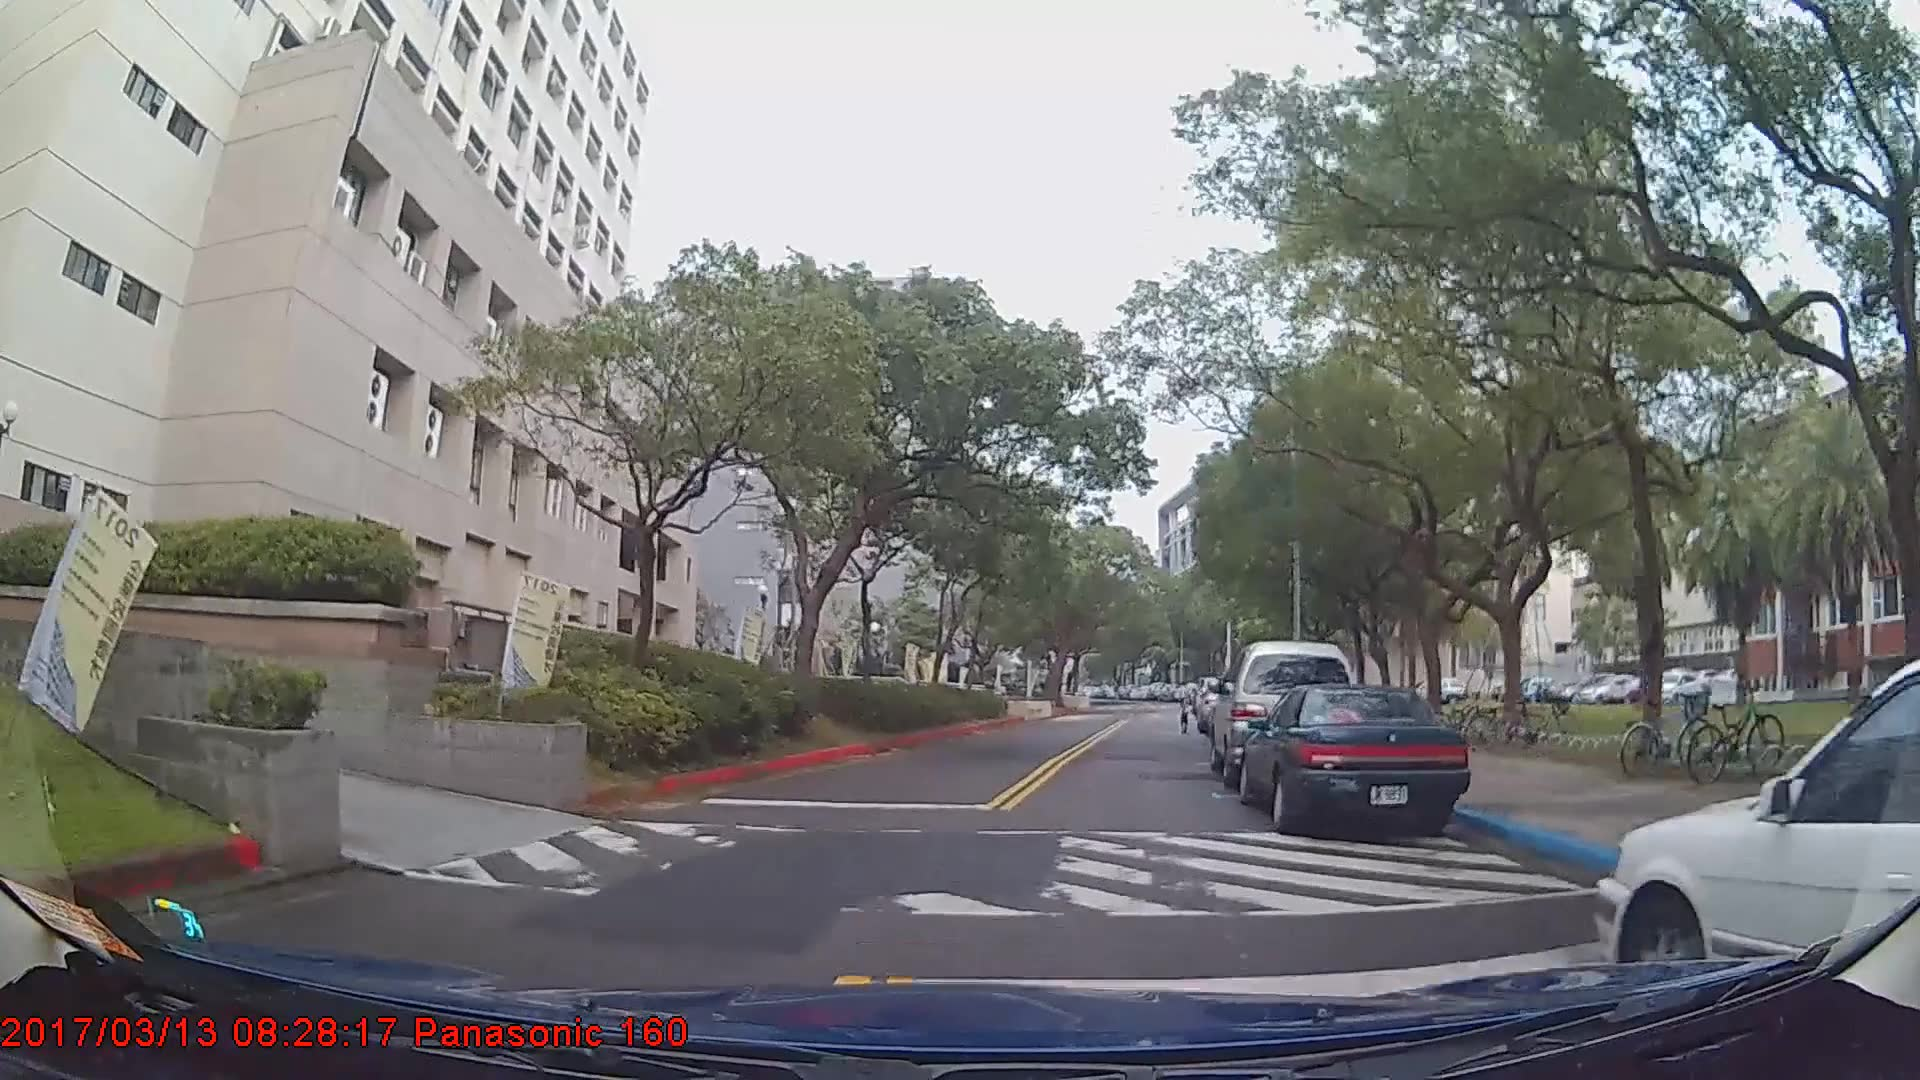vehicle: (1592, 658, 1920, 1002), (1236, 680, 1469, 832), (1212, 640, 1364, 793)
